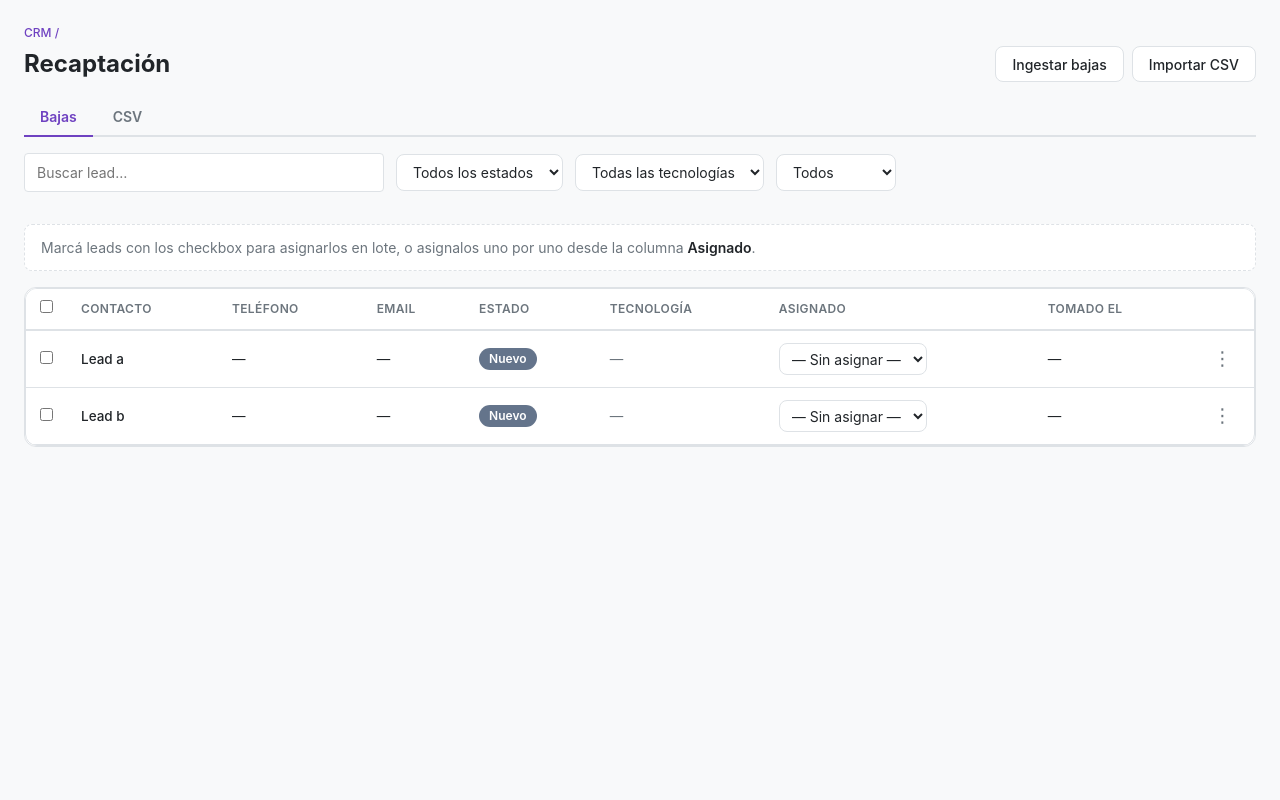
Test case: RecaptacionPage — admin (recapture.assign) › A9 — bulk-assign failure shows an error toast and keeps the selection
This screenshot has width=1280, height=800.
Click the checkbox named "Seleccionar fila a". click: (46, 357)
box: [40, 351, 53, 364]
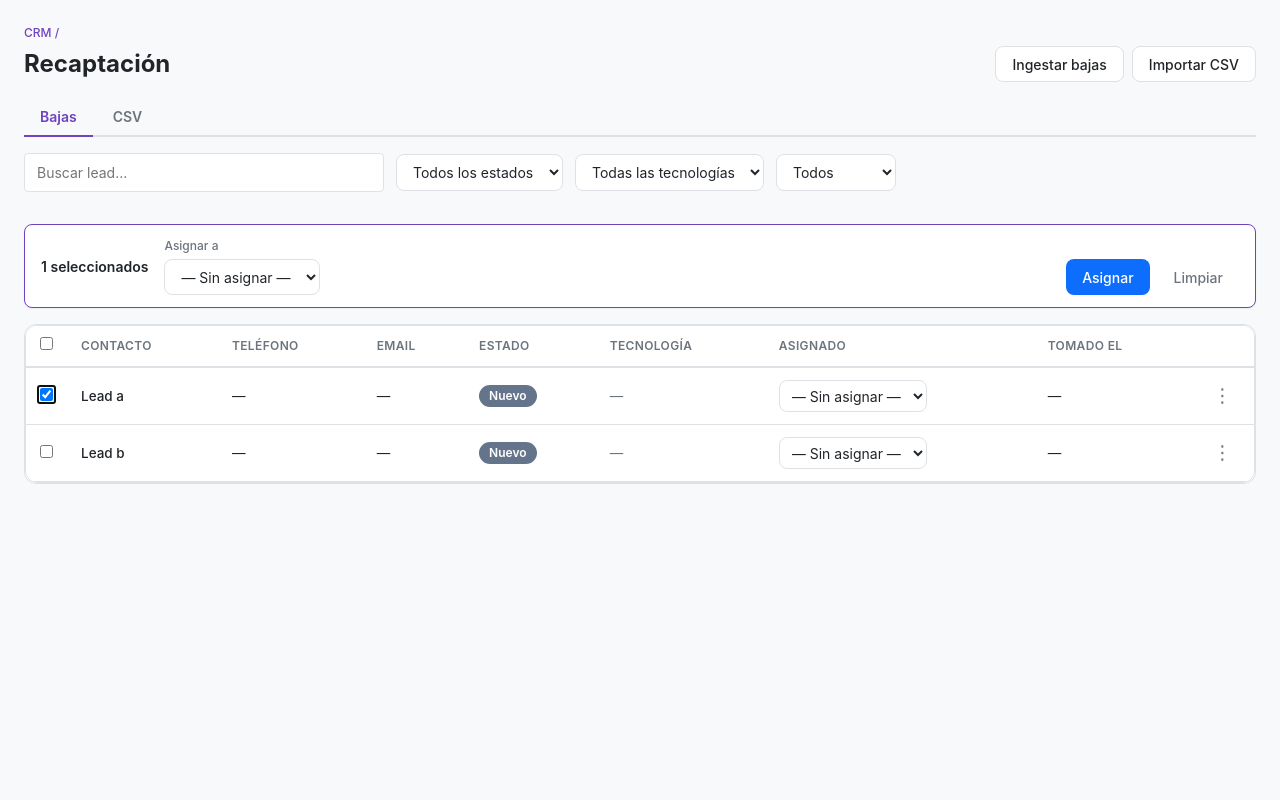
Select "Operador Uno" in the dropdown labelled "Asignar a". click: (242, 277)
box: [164, 259, 320, 295]
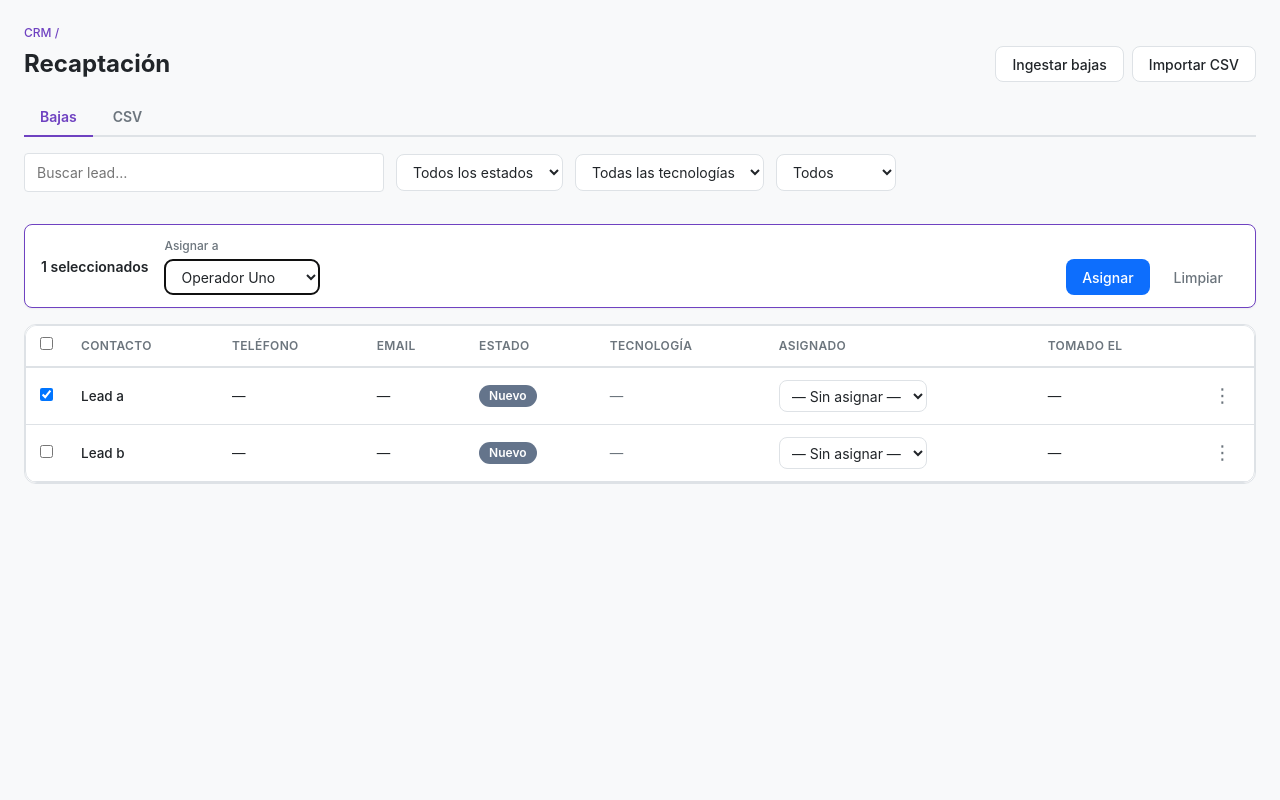
Click the button "Asignar". click: (1108, 277)
box: [1066, 259, 1150, 295]
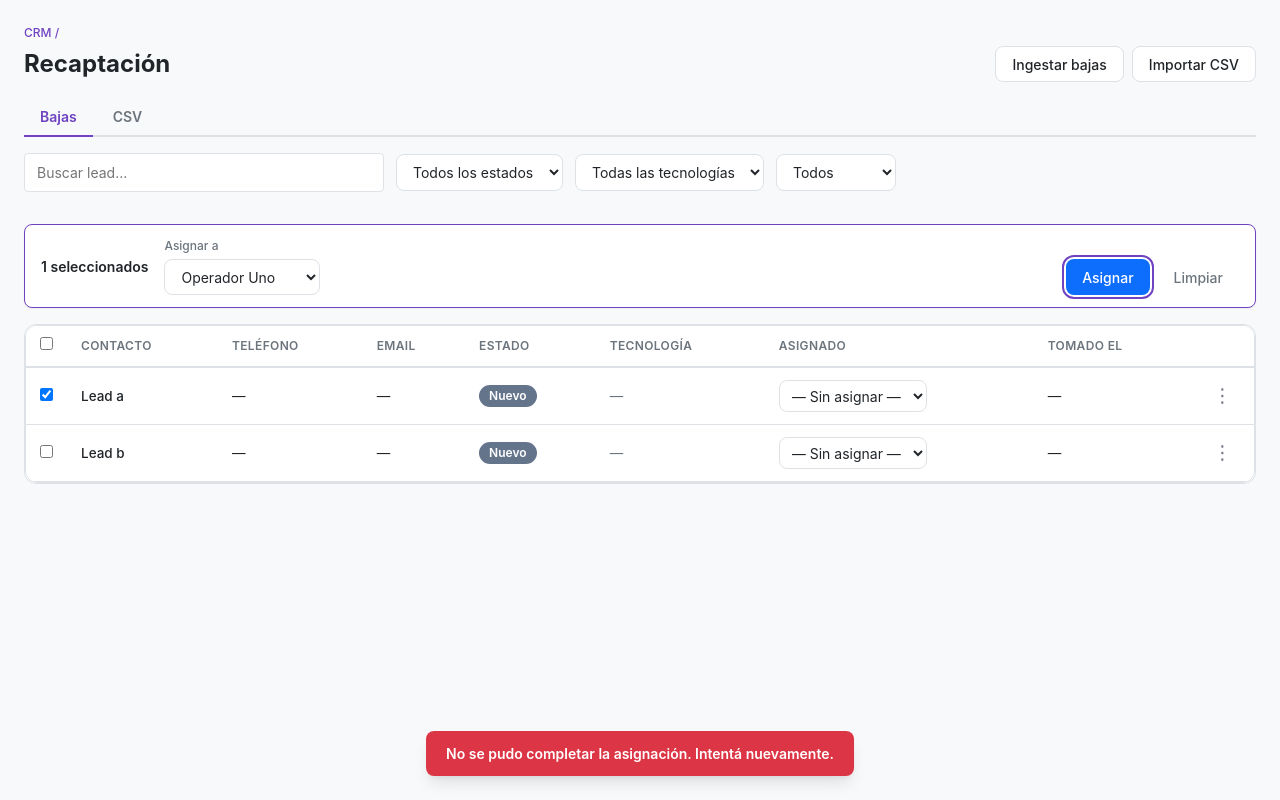
Expected: the element named "asignación masiva" is shown, [24, 224, 1256, 308]
Expected: the message shows "No se pudo completar la asignación", [446, 745, 834, 762]
